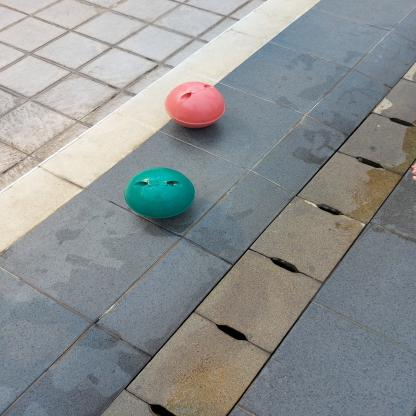green_buoy: (122, 166, 198, 220)
red_buoy: (162, 80, 227, 130)
